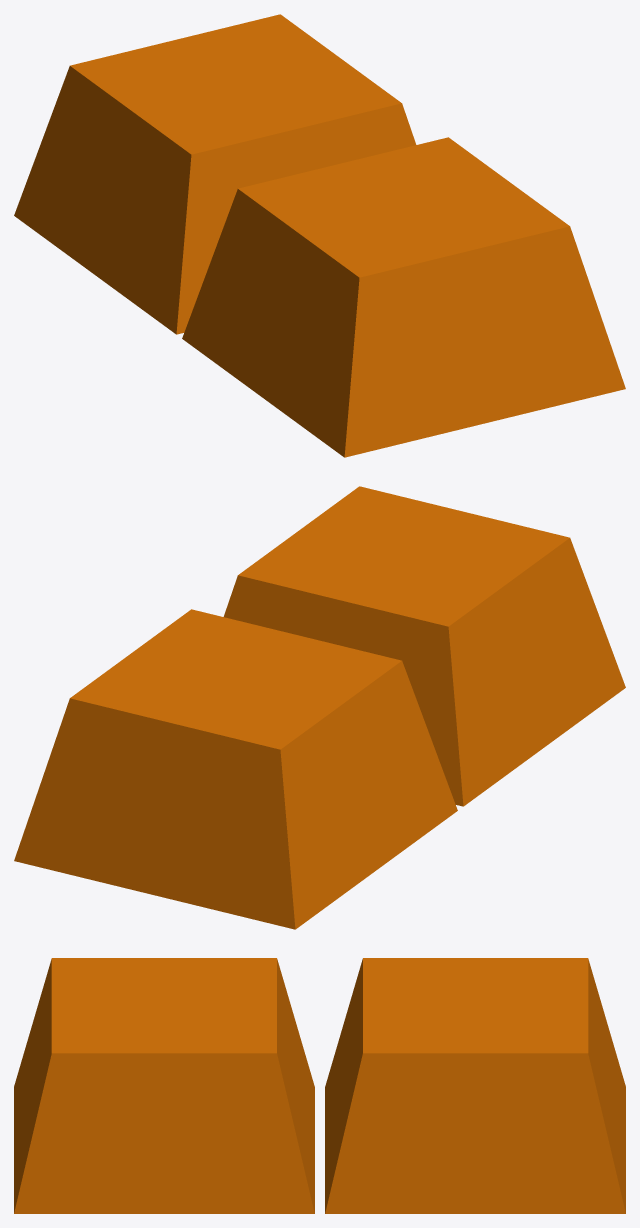
The model's file is Vertical2x1_Orange_low poly.fbx.
The picture shows the model from 3 angles, top to bottom: view 1: azimuth 30°, elevation 25°; view 2: azimuth 150°, elevation 25°; view 3: azimuth 270°, elevation 25°; orthographic projection. The views are drawn at different scales.
Visible parts, largest first — view 1: Cube.067; view 2: Cube.067; view 3: Cube.067.
Boxes of the visible parts, box(x1,y1,x2,y2) form: Cube.067: box(14, 14, 625, 457); Cube.067: box(14, 486, 625, 929); Cube.067: box(14, 958, 625, 1213).
Size of the model in its own units: 27.71 by 7.23 by 13.62.
